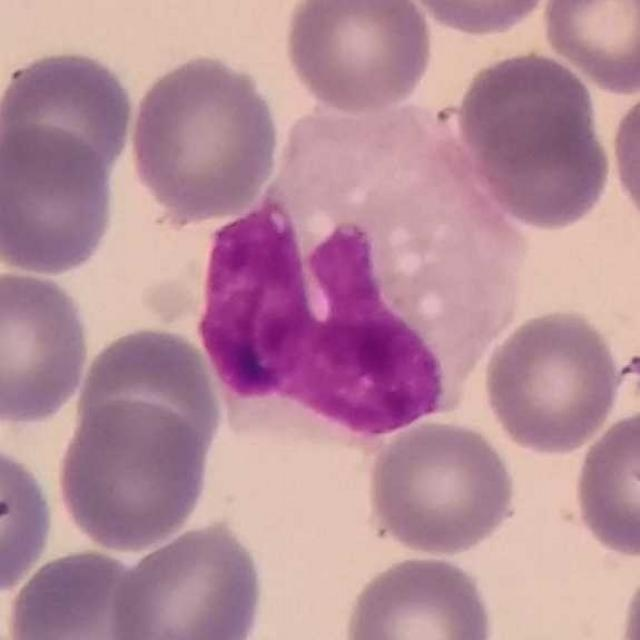mono: (198, 91, 540, 453)
